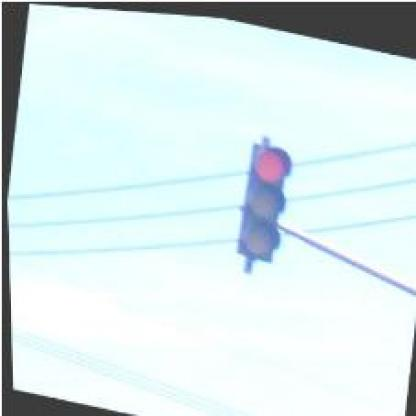red: (228, 133, 296, 259)
